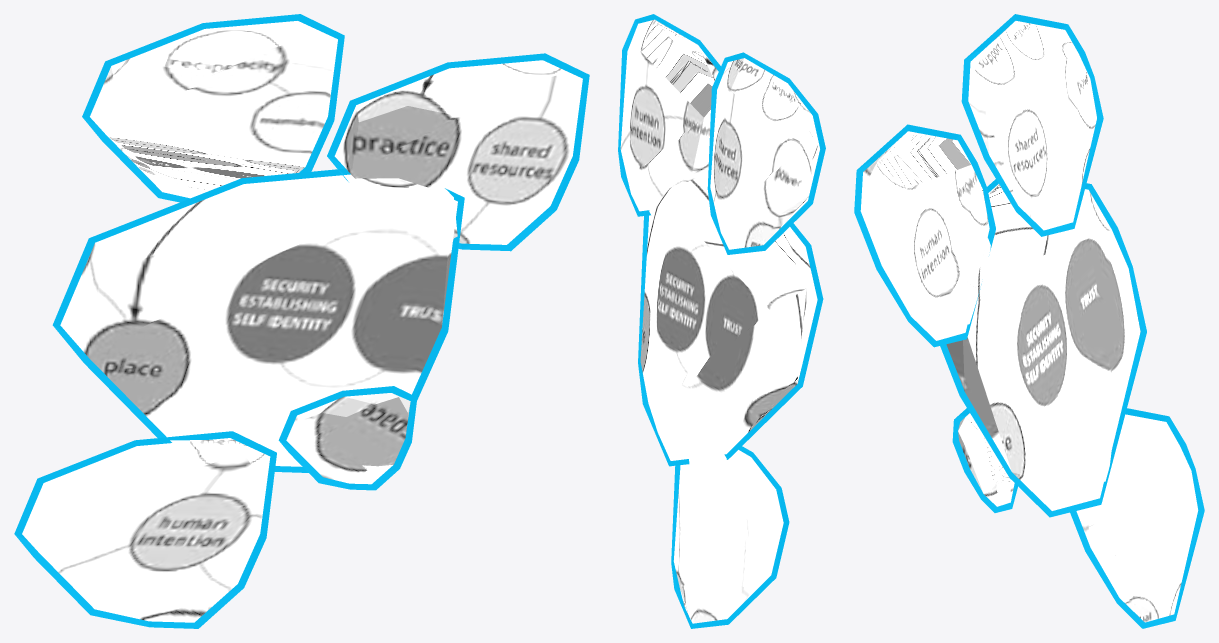
The model's file is City_as_a_Category_of_Practice.glb.
3 views of the same model, side by side, from view 1: azimuth 30°, elevation 25°; view 2: azimuth 150°, elevation 25°; view 3: azimuth 270°, elevation 25° (orthographic). The views are drawn at different scales.
Visible parts, largest first — view 1: Dr. Beatriz-Itzel Cruz Megchun.001; view 2: Dr. Beatriz-Itzel Cruz Megchun.001; view 3: Dr. Beatriz-Itzel Cruz Megchun.001.
Boxes of the visible parts, x1,y1,x2,y2 form: Dr. Beatriz-Itzel Cruz Megchun.001: (14,14,589,628); Dr. Beatriz-Itzel Cruz Megchun.001: (618,14,825,628); Dr. Beatriz-Itzel Cruz Megchun.001: (854,14,1204,628).
Bounding box in the file's own units: 2.86 × 4.82 × 2.59.
Materials: 2 (1 with a texture image).
